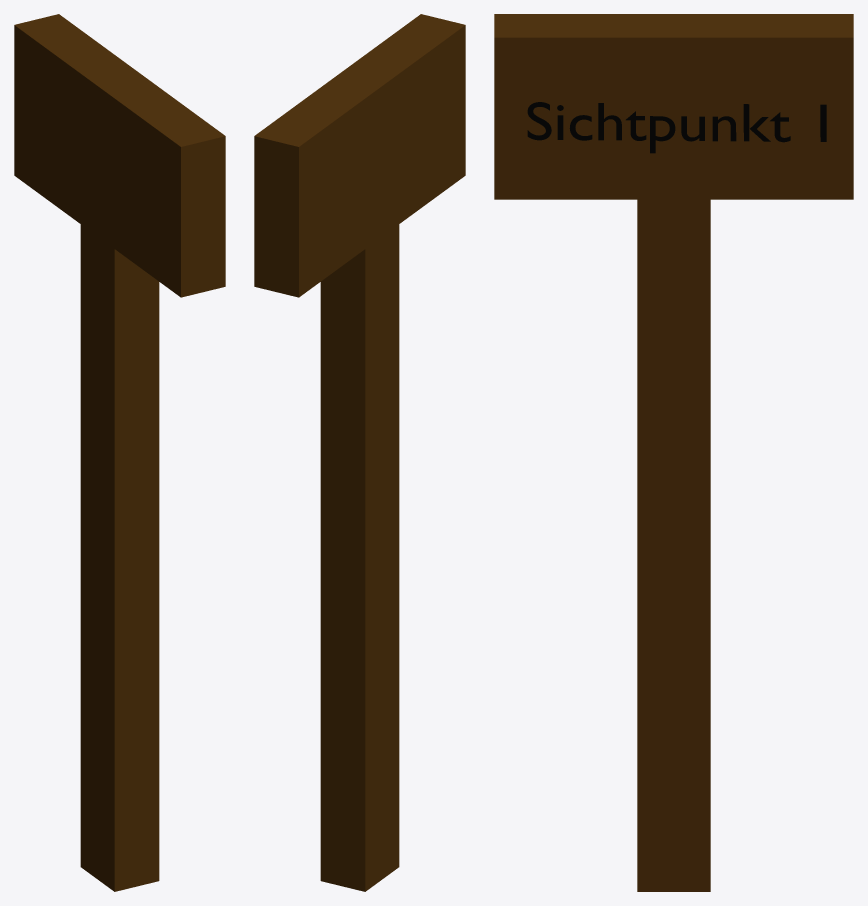
Rendered from Sichtpunkt1_Schild.fbx.
3 views of the same model, side by side, from view 1: azimuth 30°, elevation 25°; view 2: azimuth 150°, elevation 25°; view 3: azimuth 270°, elevation 25° (orthographic). The views are drawn at different scales.
Visible parts, largest first — view 1: Cube, Cube.001; view 2: Cube, Cube.001; view 3: Cube.001, Cube, Text.
Boxes of the visible parts, x1,y1,x2,y2 form: Cube: (80,218,159,891); Cube.001: (14,14,225,297); Cube: (320,218,399,891); Cube.001: (254,14,465,297); Cube.001: (494,14,853,199); Cube: (637,192,710,891); Text: (527,102,826,153).
Bounding box in the file's own units: 75.91 × 1119 × 427.
